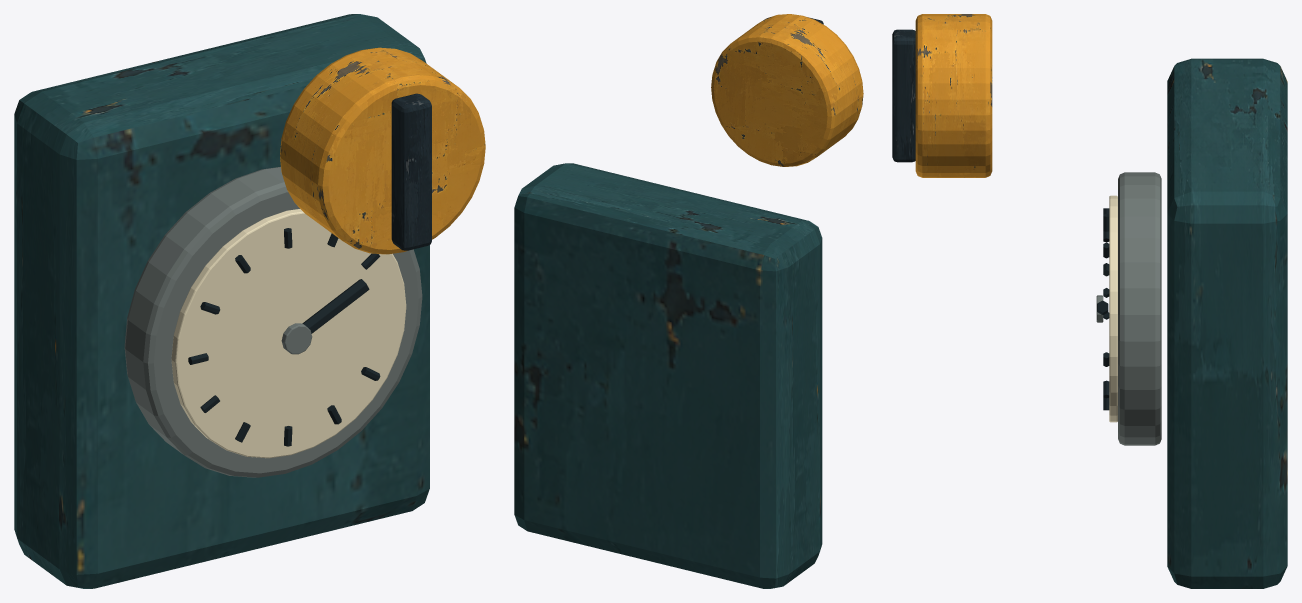
Rendered from rotary-control.glb.
3 renders of one model, left to right at view 1: azimuth 30°, elevation 25°; view 2: azimuth 150°, elevation 25°; view 3: azimuth 270°, elevation 25°, orthographic. The views are drawn at different scales.
Visible parts, largest first — view 1: rotary-control__rotary-control__petrol, rotary-control__rotary-control__gauge-face, rotary-control__rotary-knob__amber, rotary-control__rotary-control__hardware, rotary-control__rotary-knob__steel, rotary-control__rotary-control__rubber; view 2: rotary-control__rotary-control__petrol, rotary-control__rotary-knob__amber; view 3: rotary-control__rotary-control__petrol, rotary-control__rotary-knob__amber, rotary-control__rotary-control__hardware, rotary-control__rotary-knob__steel, rotary-control__rotary-control__gauge-face, rotary-control__rotary-control__rubber.
Boxes of the visible parts, x1=… form: rotary-control__rotary-control__petrol: x1=14, y1=14, x2=429, y2=588; rotary-control__rotary-control__gauge-face: x1=171, y1=209, x2=406, y2=458; rotary-control__rotary-knob__amber: x1=280, y1=47, x2=485, y2=254; rotary-control__rotary-control__hardware: x1=124, y1=166, x2=422, y2=477; rotary-control__rotary-knob__steel: x1=391, y1=93, x2=431, y2=250; rotary-control__rotary-control__rubber: x1=188, y1=228, x2=380, y2=446; rotary-control__rotary-control__petrol: x1=514, y1=163, x2=822, y2=588; rotary-control__rotary-knob__amber: x1=711, y1=14, x2=863, y2=166; rotary-control__rotary-control__petrol: x1=1167, y1=58, x2=1287, y2=588; rotary-control__rotary-knob__amber: x1=915, y1=14, x2=992, y2=177; rotary-control__rotary-control__hardware: x1=1096, y1=172, x2=1161, y2=445; rotary-control__rotary-knob__steel: x1=892, y1=29, x2=915, y2=162; rotary-control__rotary-control__gauge-face: x1=1109, y1=195, x2=1117, y2=422; rotary-control__rotary-control__rubber: x1=1097, y1=208, x2=1109, y2=410.
Bounding box in the file's own units: 0.66 × 1.01 × 0.7225.
6 materials, 3 textured.
